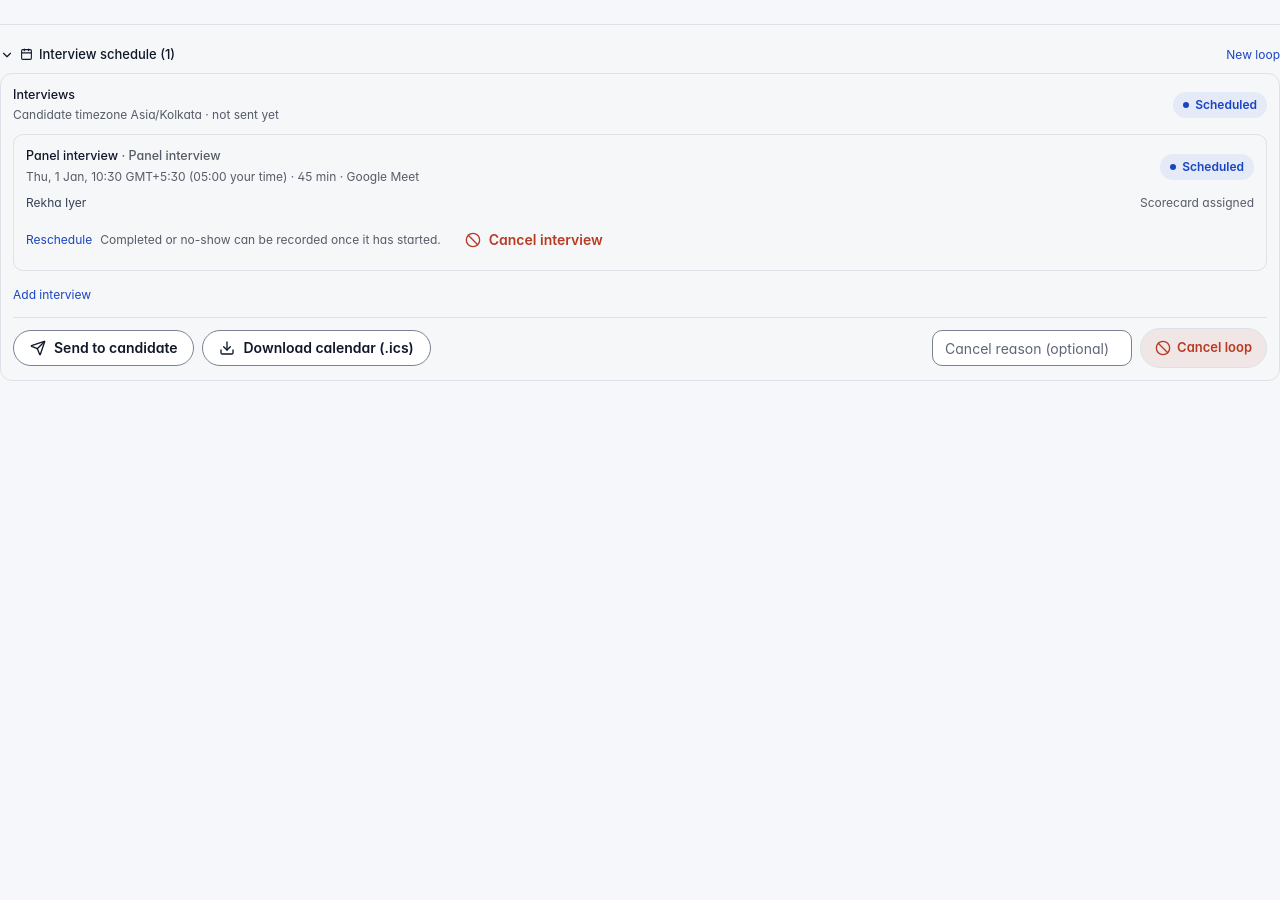
InterviewLoopsSection - times and zones (IV-M5, IV-L7) › says how many free times there are and shows more on request
Click the button "Reschedule" at (59, 240), box x1=26 y1=231 x2=92 y2=249
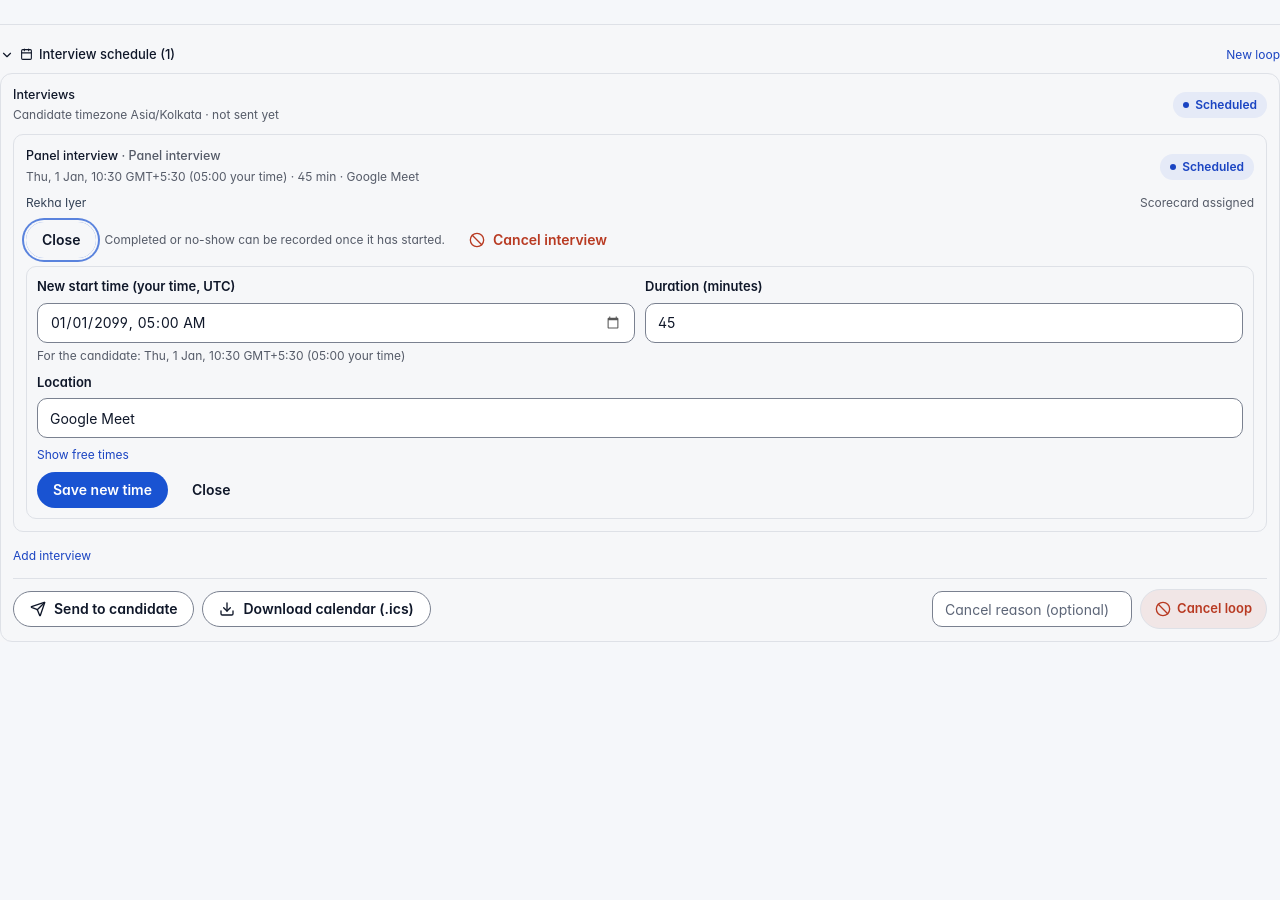
Click the button "Show free times" at (83, 455), box x1=37 y1=446 x2=129 y2=464
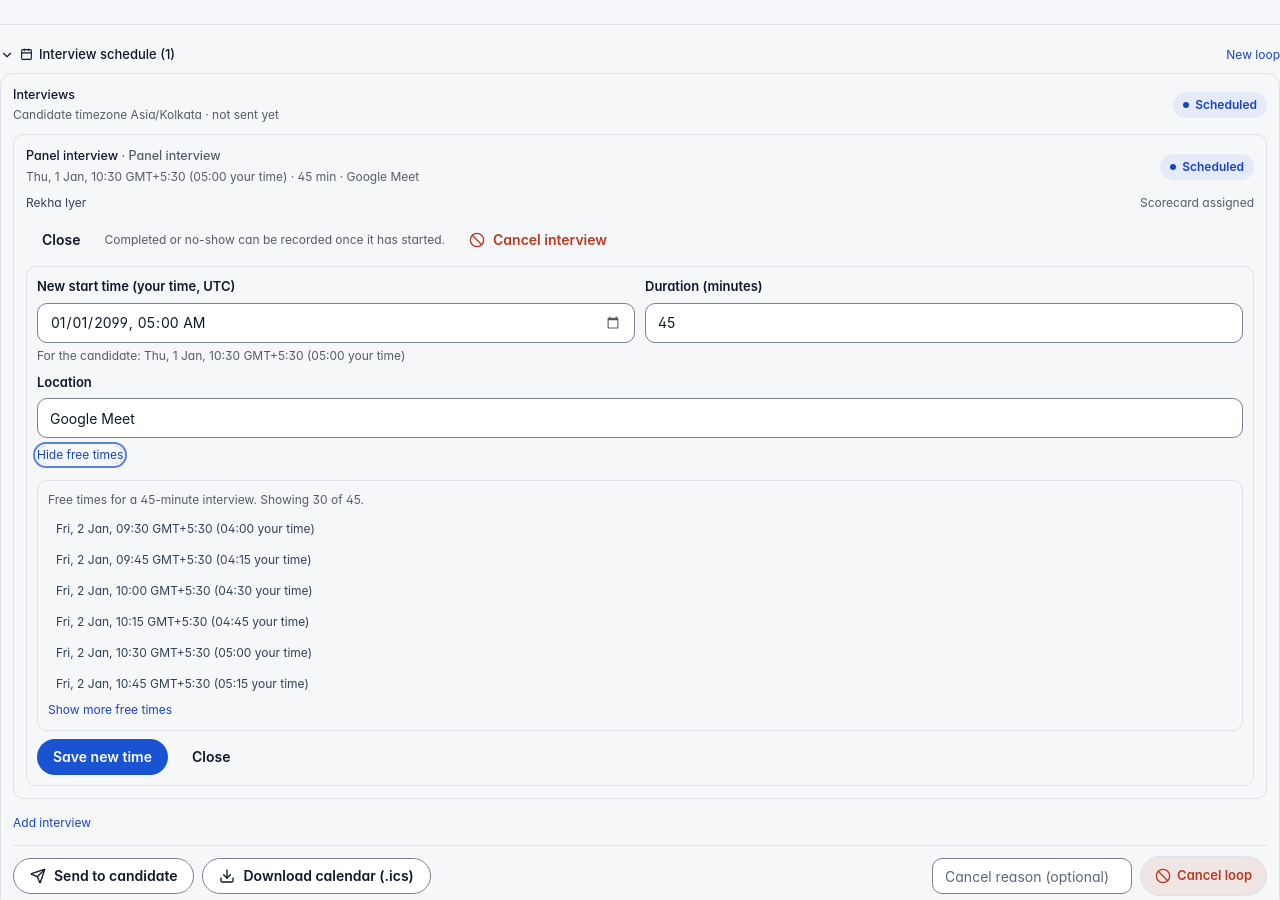
Check: the text "Free times for a 45-minute interview. Showing 30 of 45." is shown, box x1=48 y1=492 x2=364 y2=507
Click the button "Show more free times" at (110, 710), box x1=48 y1=701 x2=172 y2=719
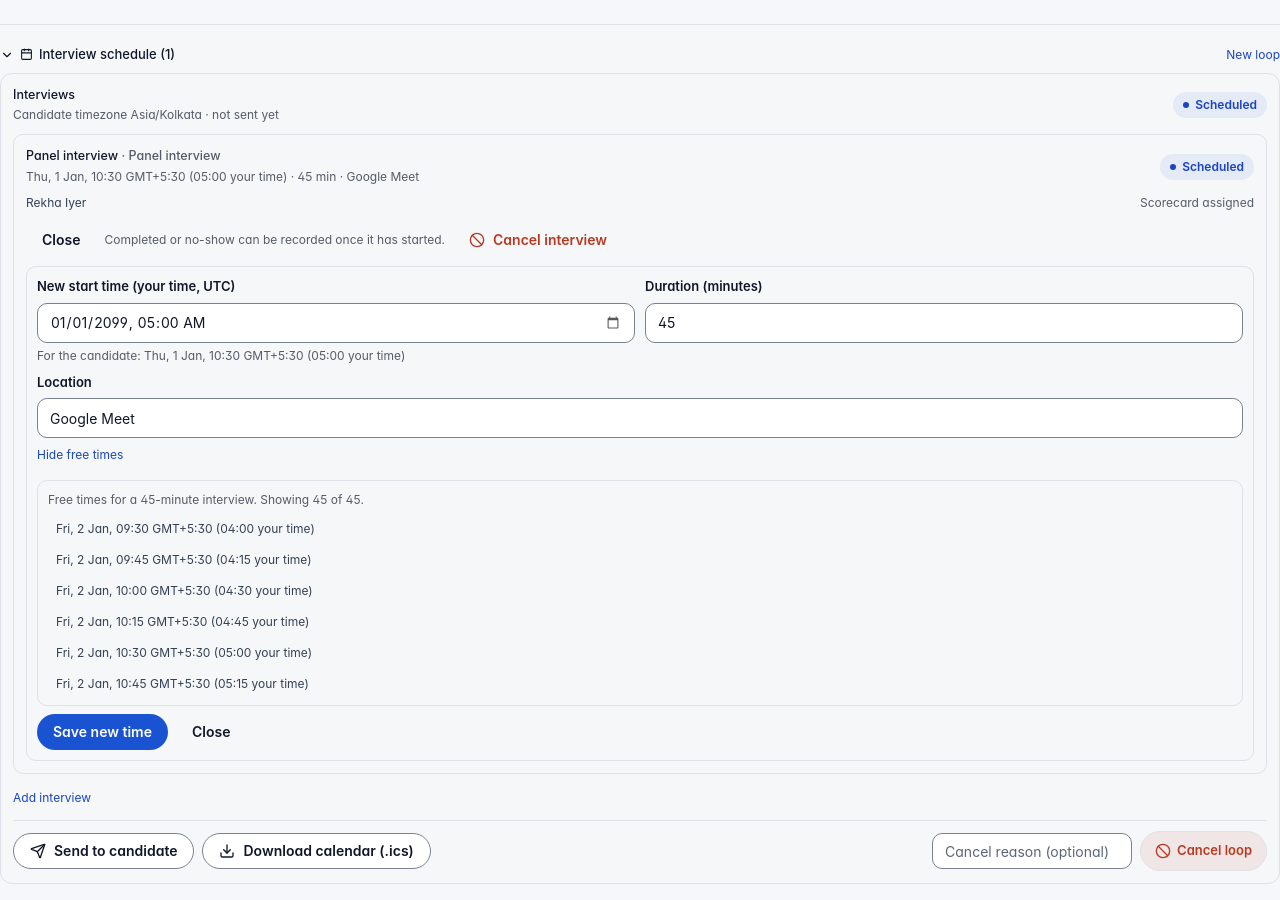
Check: the text "Free times for a 45-minute interview. Showing 45 of 45." is shown, box x1=48 y1=492 x2=364 y2=507
